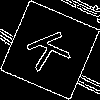K: (25, 25, 80, 73)
